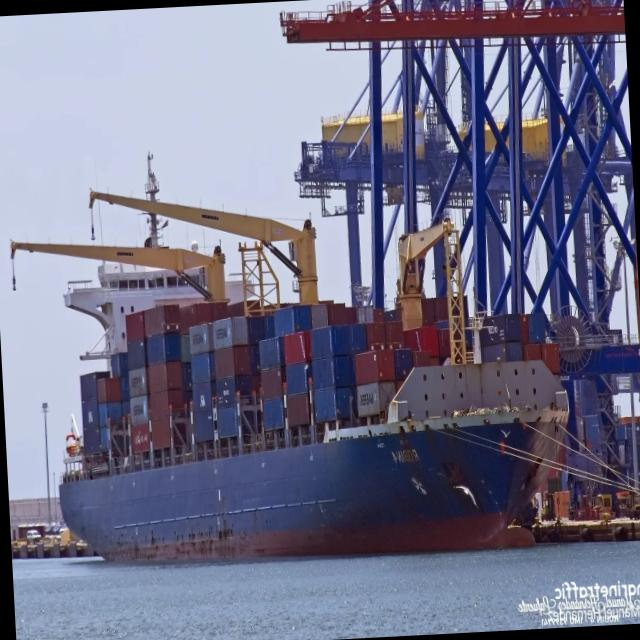Cargo: (12, 156, 567, 560)
